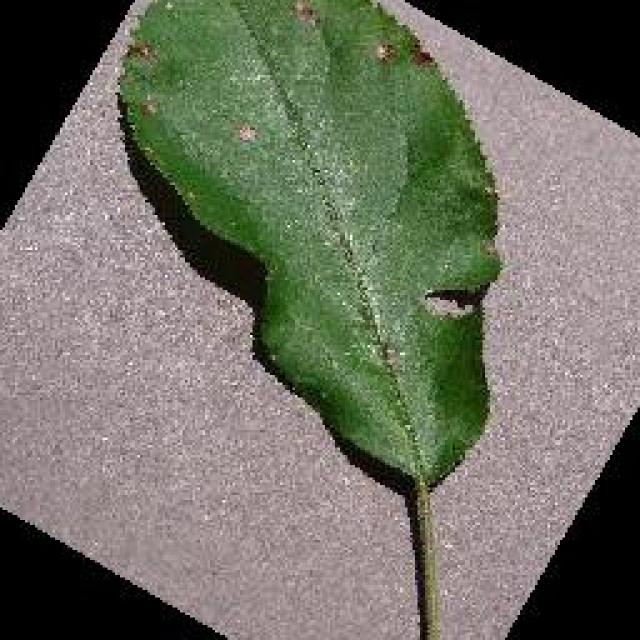Black_rot: (115, 0, 502, 492)
